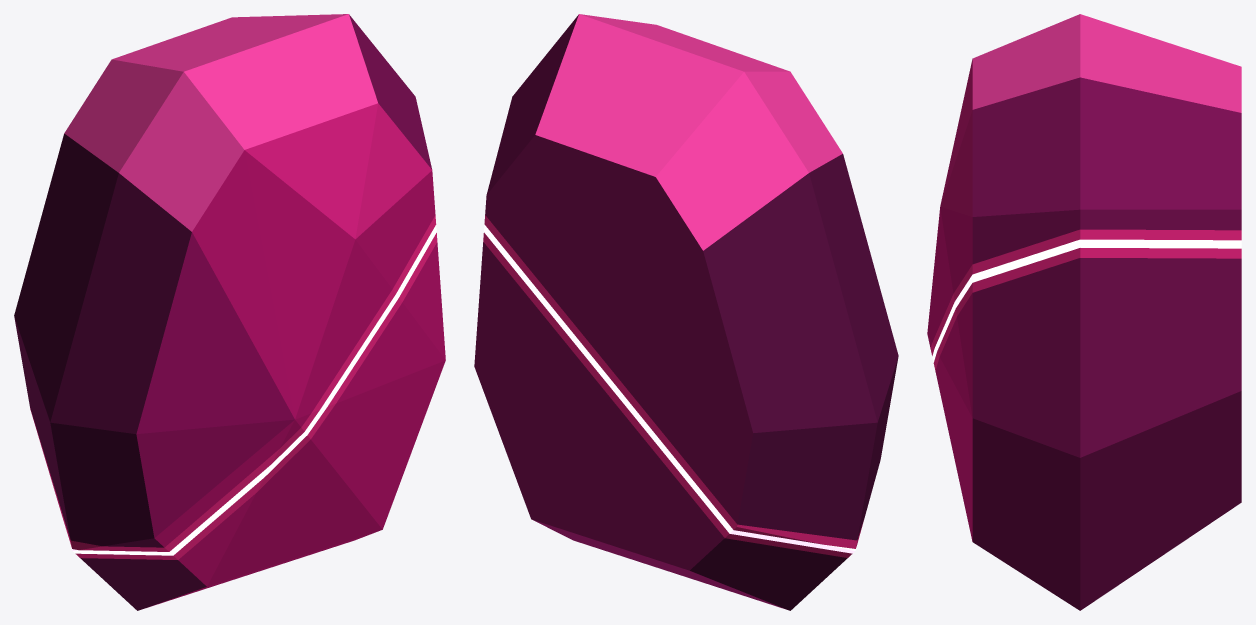
The model's file is shard.fbx.
3 views of the same model, side by side, from view 1: azimuth 30°, elevation 25°; view 2: azimuth 150°, elevation 25°; view 3: azimuth 270°, elevation 25° (orthographic).
Parts seen in each view (by area): view 1: ShardBody, ShardVein; view 2: ShardBody, ShardVein; view 3: ShardBody, ShardVein.
Part boxes in pixels (box(x1,y1,x2,y2)): ShardBody: box(14, 14, 445, 610); ShardVein: box(66, 225, 436, 555); ShardBody: box(474, 14, 898, 610); ShardVein: box(484, 224, 856, 553); ShardBody: box(927, 14, 1241, 610); ShardVein: box(932, 239, 1241, 362).
Bounding box in the file's own units: 206 × 281 × 146.
Materials: 2 (1 with a texture image).
